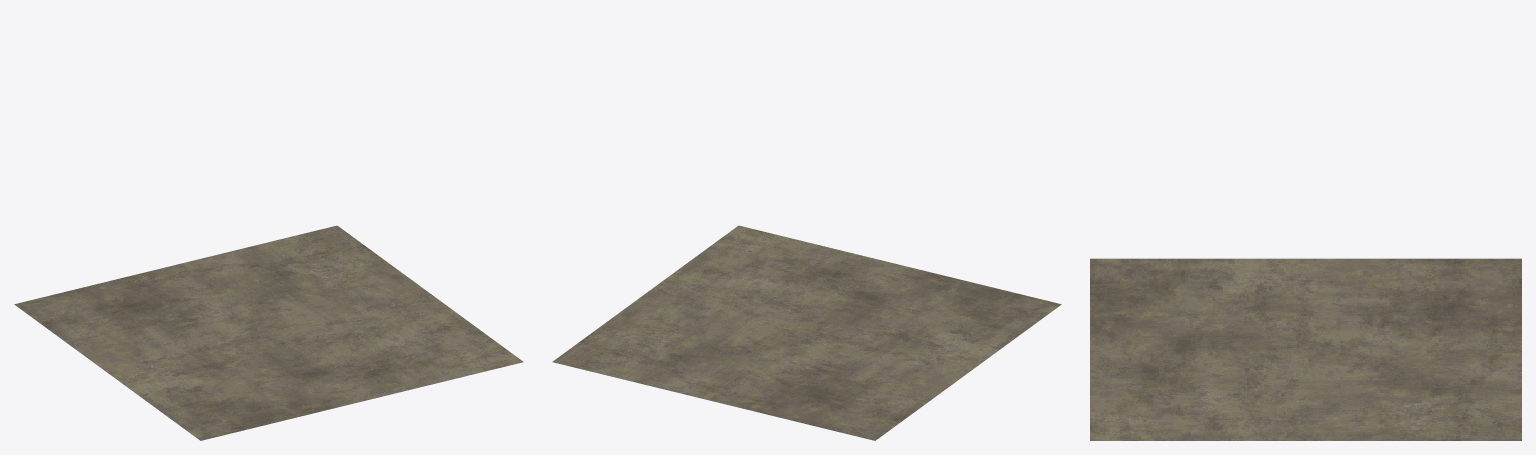
Rendered from pokoj.glb.
The picture shows the model from 3 angles, left to right: view 1: azimuth 30°, elevation 25°; view 2: azimuth 150°, elevation 25°; view 3: azimuth 270°, elevation 25°; orthographic projection. The views are drawn at different scales.
Visible parts, largest first — view 1: ceiling; view 2: ceiling; view 3: ceiling.
Part boxes in pixels (x1,y1,x2,y2): ceiling: [14, 225, 523, 440]; ceiling: [552, 225, 1061, 440]; ceiling: [1090, 258, 1521, 440].
Size of the model in its own units: 4 by 2.5 by 4.
Materials: 2 (2 with a texture image).
